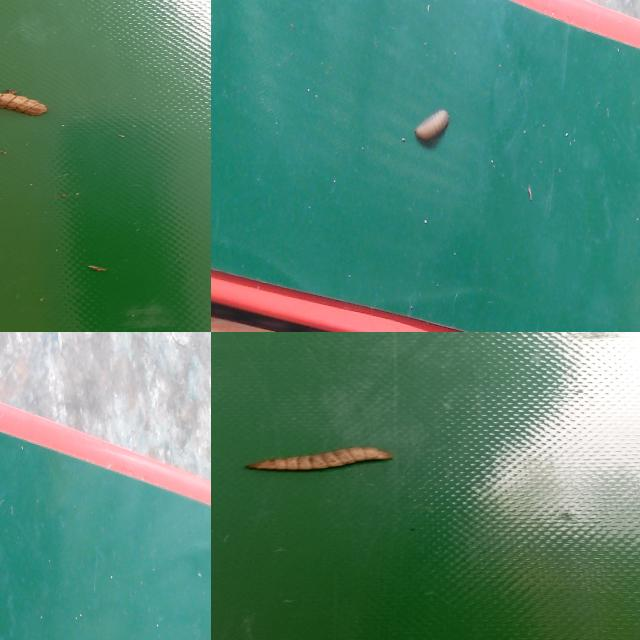Maggot: (245, 448, 392, 475), (411, 110, 450, 150), (0, 90, 47, 118)
